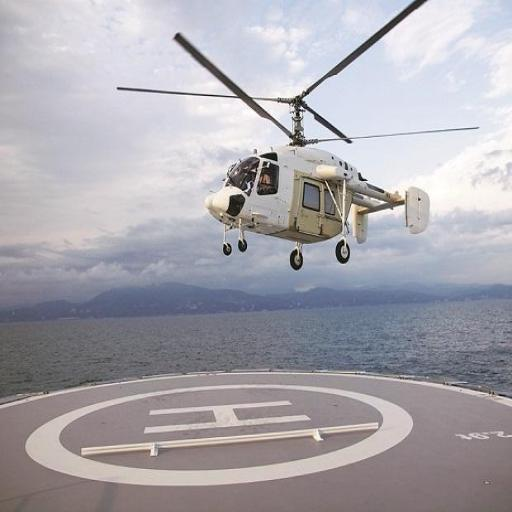helicopter: (127, 2, 473, 282)
